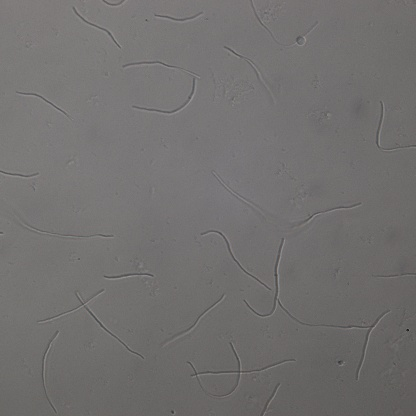Sensitive: (241, 236, 369, 328), (37, 290, 143, 357), (186, 341, 295, 400), (199, 227, 269, 289), (121, 61, 200, 114), (5, 205, 114, 239), (249, 1, 318, 49), (164, 295, 225, 346), (225, 47, 275, 101), (213, 170, 267, 219), (353, 309, 390, 379), (373, 101, 416, 153), (72, 8, 121, 46), (39, 331, 60, 412), (294, 202, 361, 226), (17, 91, 68, 117), (103, 268, 155, 282), (155, 11, 203, 24)
